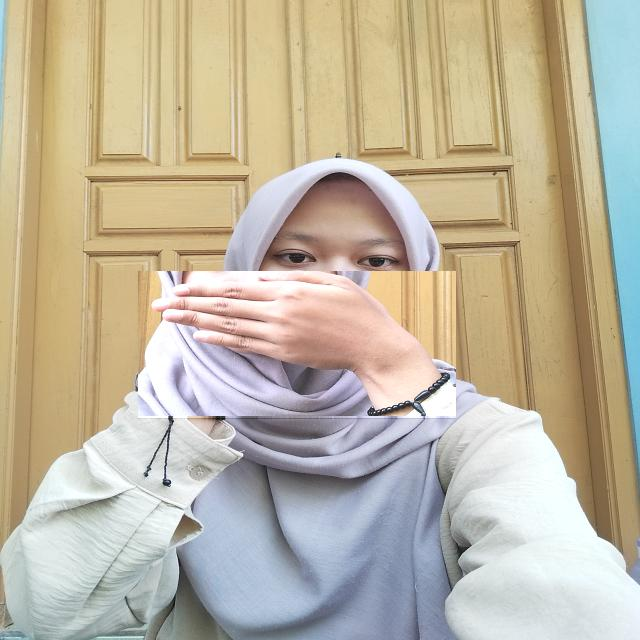buruk: (138, 272, 456, 419)
